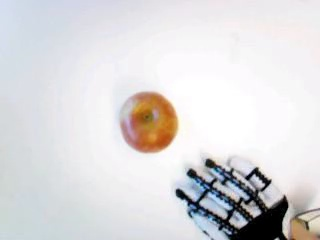apple: (120, 90, 179, 154)
hand: (172, 158, 293, 240)
